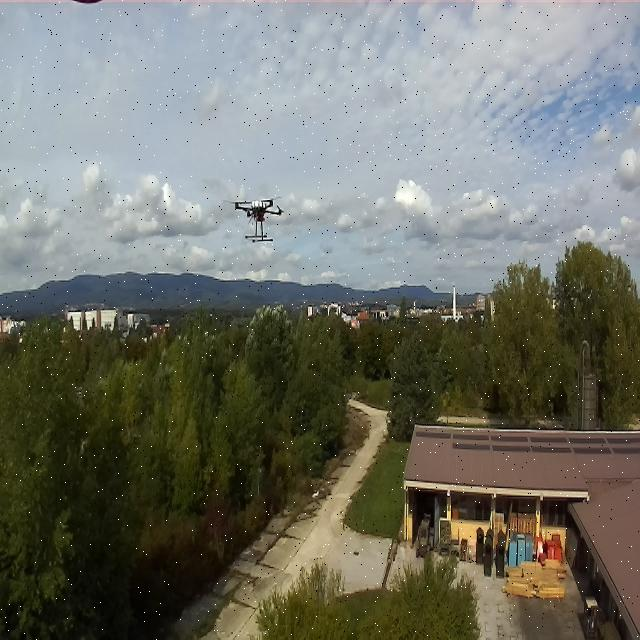UAV: (227, 188, 289, 246)
